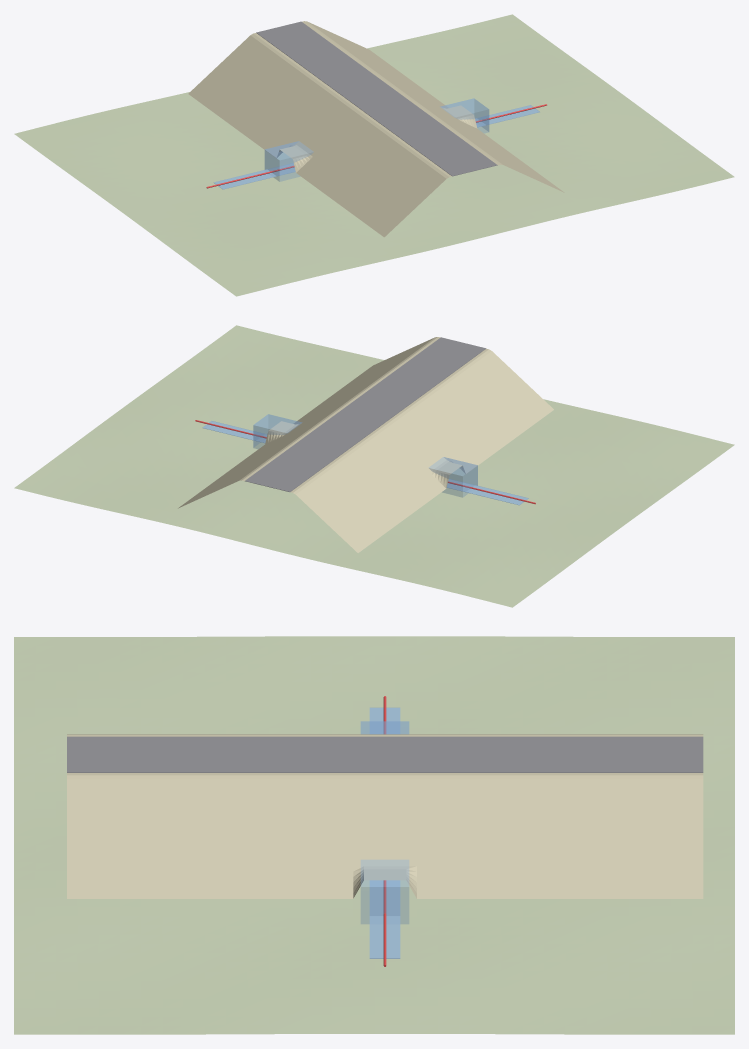
The picture shows the model from 3 angles, top to bottom: view 1: azimuth 30°, elevation 25°; view 2: azimuth 150°, elevation 25°; view 3: azimuth 270°, elevation 25°; orthographic projection. The views are drawn at different scales.
Visible parts, largest first — view 1: 地形|現況地形 (参考), 土工|道路盛土 (参考, 天端幅9.5m H=5.0m 法1:1.5), 道路|道路舗装 (参考), 概略形状|カルバート範囲ボックス, 地形|水面 (参考); view 2: 地形|現況地形 (参考), 土工|道路盛土 (参考, 天端幅9.5m H=5.0m 法1:1.5), 道路|道路舗装 (参考), 概略形状|カルバート範囲ボックス, 地形|水面 (参考); view 3: 地形|現況地形 (参考), 土工|道路盛土 (参考, 天端幅9.5m H=5.0m 法1:1.5), 道路|道路舗装 (参考), 概略形状|カルバート範囲ボックス, 地形|水面 (参考).
Boxes of the visible parts, box(x1,y1,x2,y2) form: 地形|現況地形 (参考): box(14, 14, 734, 296); 土工|道路盛土 (参考, 天端幅9.5m H=5.0m 法1:1.5): box(188, 21, 564, 237); 道路|道路舗装 (参考): box(256, 21, 497, 176); 概略形状|カルバート範囲ボックス: box(264, 98, 489, 181); 地形|水面 (参考): box(213, 105, 539, 189); 地形|現況地形 (参考): box(14, 325, 734, 607); 土工|道路盛土 (参考, 天端幅9.5m H=5.0m 法1:1.5): box(178, 337, 553, 552); 道路|道路舗装 (参考): box(245, 337, 485, 491); 概略形状|カルバート範囲ボックス: box(253, 414, 477, 497); 地形|水面 (参考): box(202, 421, 528, 505); 地形|現況地形 (参考): box(14, 636, 734, 1034); 土工|道路盛土 (参考, 天端幅9.5m H=5.0m 法1:1.5): box(67, 734, 703, 898); 道路|道路舗装 (参考): box(67, 736, 703, 772); 概略形状|カルバート範囲ボックス: box(360, 721, 409, 923); 地形|水面 (参考): box(369, 707, 400, 958).
Bounding box in the file's own units: 88 × 9.35 × 68.
